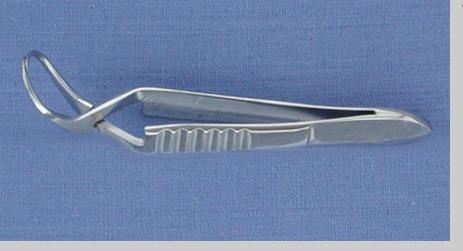Jones Towel Clamp: (17, 46, 438, 158)
